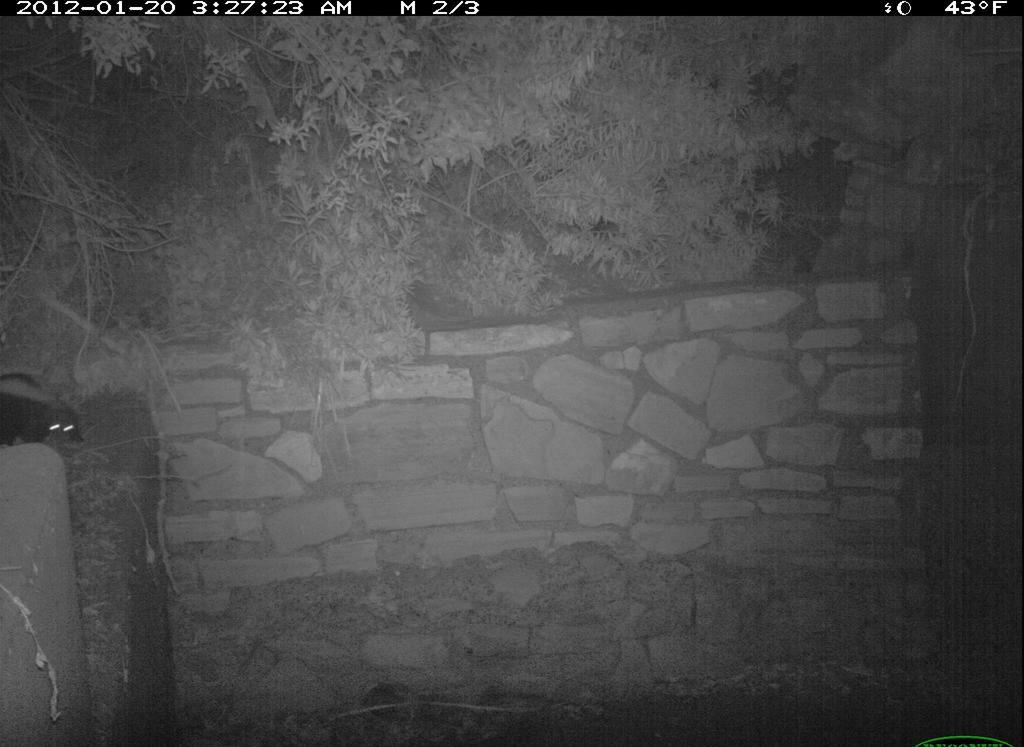skunk: (1, 376, 95, 448)
